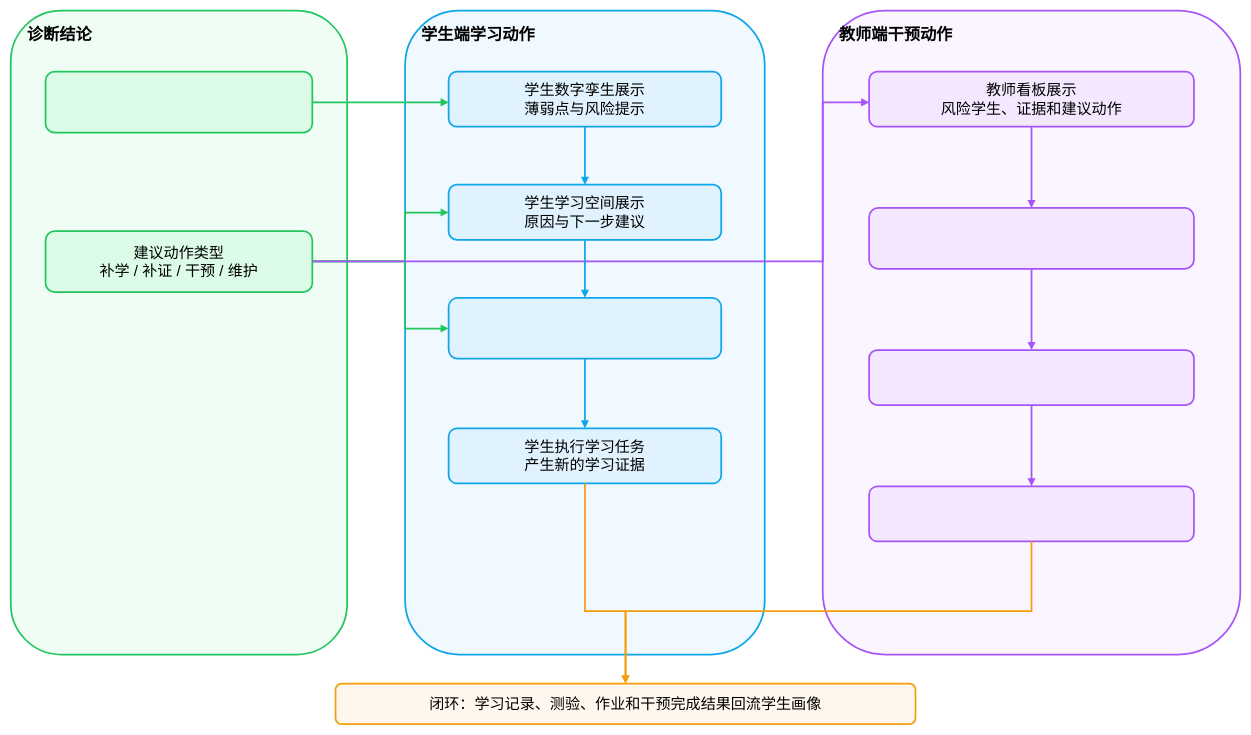
The diagram is 1251 pixels wide and 735 high, and some of its shapes have lost their labels. Each missing label, with the centre of its shape:
"3.9 生成干预任务包草稿 资源 / 作业 / 提醒 / 跟踪" goes at pixel 1031 238.
"个性化路径安排 补学节点 / 资源 / 小测 / 练习" goes at pixel 584 328.
"教师审核后下发 不自动执行" goes at pixel 1031 377.
"统一诊断结论 薄弱点 / 原因 / 依据等级" goes at pixel 178 101.
"跟踪完成情况 回流画像与下一轮诊断" goes at pixel 1031 513.
